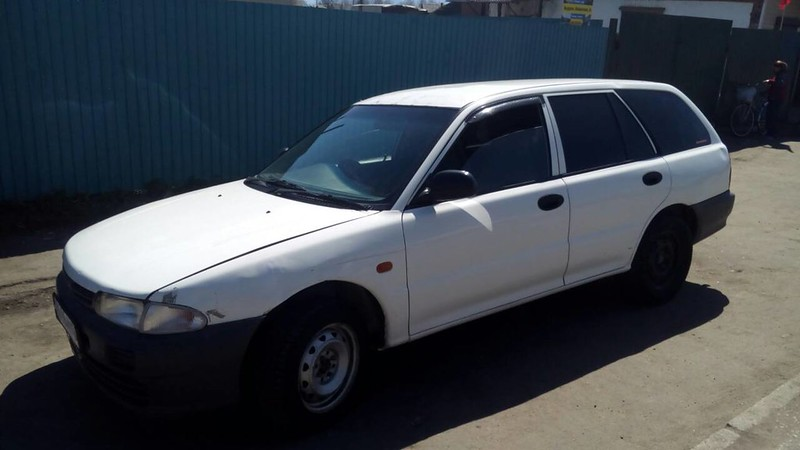car: (44, 72, 742, 425)
